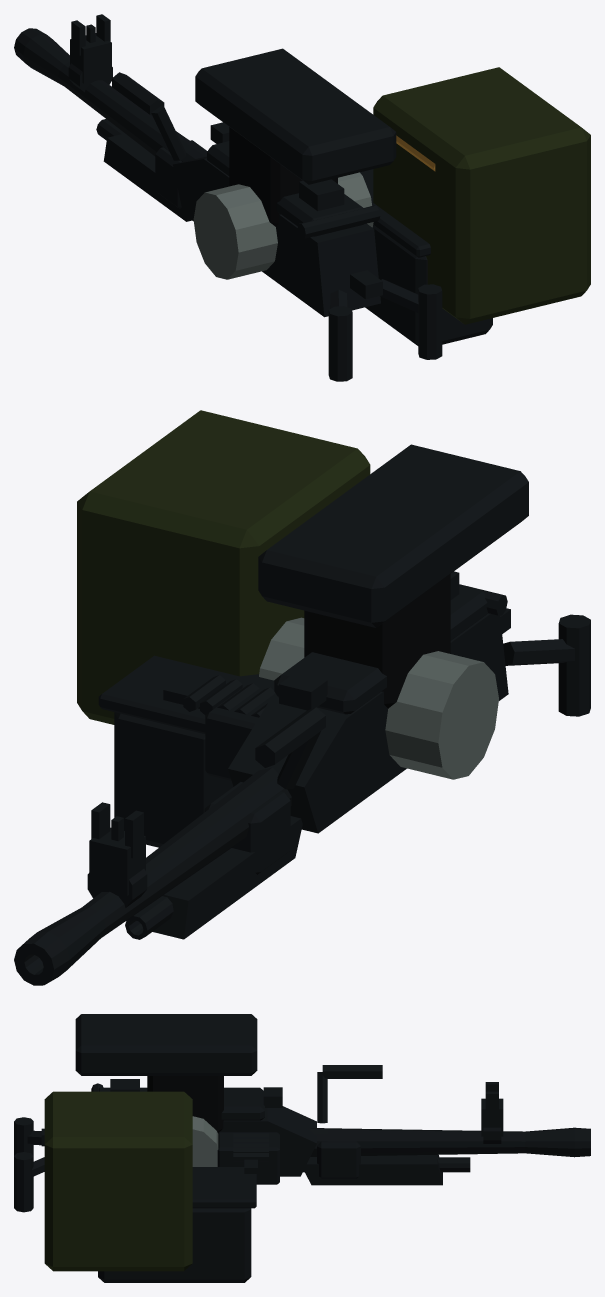
The model's file is Gun762.obj.
3 renders of one model, top to bottom at view 1: azimuth 30°, elevation 25°; view 2: azimuth 150°, elevation 25°; view 3: azimuth 270°, elevation 25°, orthographic. The views are drawn at different scales.
Parts seen in each view (by area): view 1: Detachable_feed_box, Gun762_pitch, Mount_lug, Pitch_trunnion, Mount_bearing_bridge; view 2: Gun762_pitch, Detachable_feed_box, Mount_lug, Pitch_trunnion, Mount_bearing_bridge; view 3: Gun762_pitch, Detachable_feed_box, Mount_lug, Mount_bearing_bridge, Pitch_trunnion.
Boxes of the visible parts, <box> form: Detachable_feed_box: <box>373,67,590,324</box>; Gun762_pitch: <box>14,14,492,381</box>; Mount_lug: <box>195,48,396,184</box>; Pitch_trunnion: <box>193,172,373,279</box>; Mount_bearing_bridge: <box>229,127,337,226</box>; Gun762_pitch: <box>14,571,590,985</box>; Detachable_feed_box: <box>77,410,370,724</box>; Mount_lug: <box>258,444,528,627</box>; Pitch_trunnion: <box>259,617,498,779</box>; Mount_bearing_bridge: <box>304,574,450,708</box>; Gun762_pitch: <box>14,1065,590,1282</box>; Detachable_feed_box: <box>44,1091,192,1271</box>; Mount_lug: <box>75,1014,257,1075</box>; Mount_bearing_bridge: <box>147,1076,223,1132</box>; Pitch_trunnion: <box>192,1116,218,1166</box>.
Bounding box in the file's own units: 0.56 × 0.4491 × 1.21.
